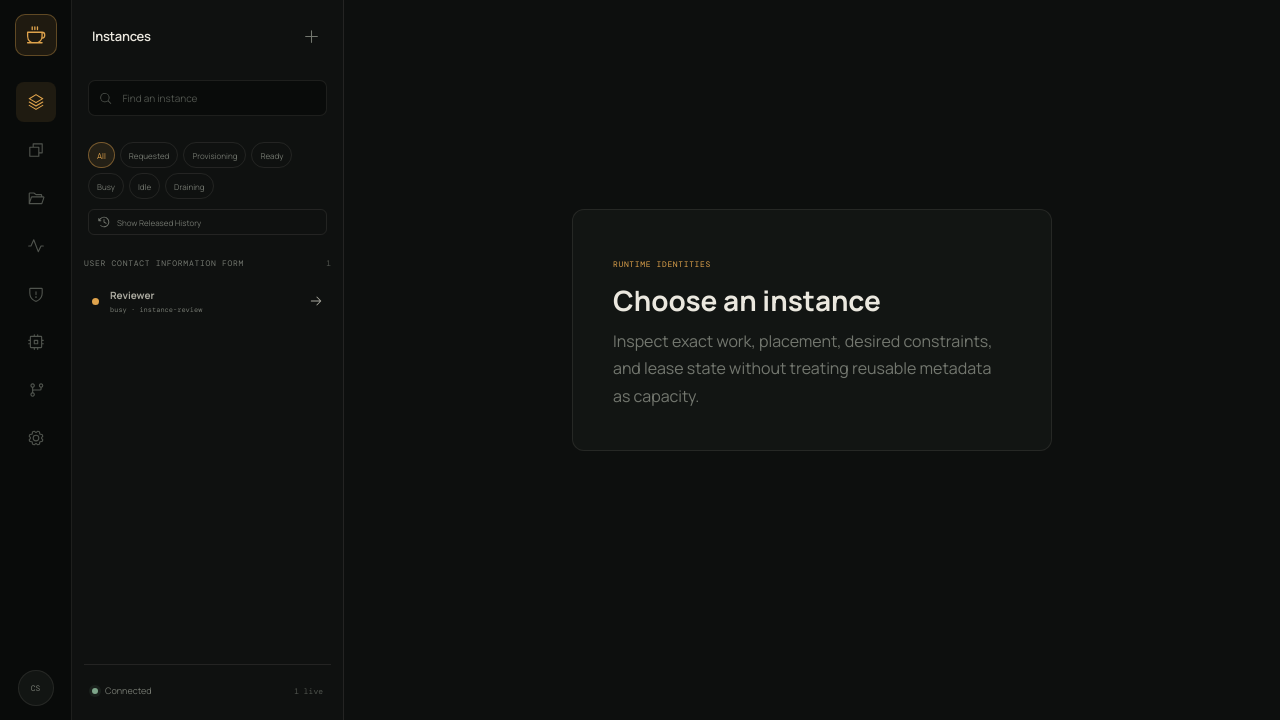
Test: version-5 instance and template operator experience › turns the missing active-thread failure into a guided prerequisite
Click the button named "Start instance".
click(311, 36)  # box [295,20,327,52]
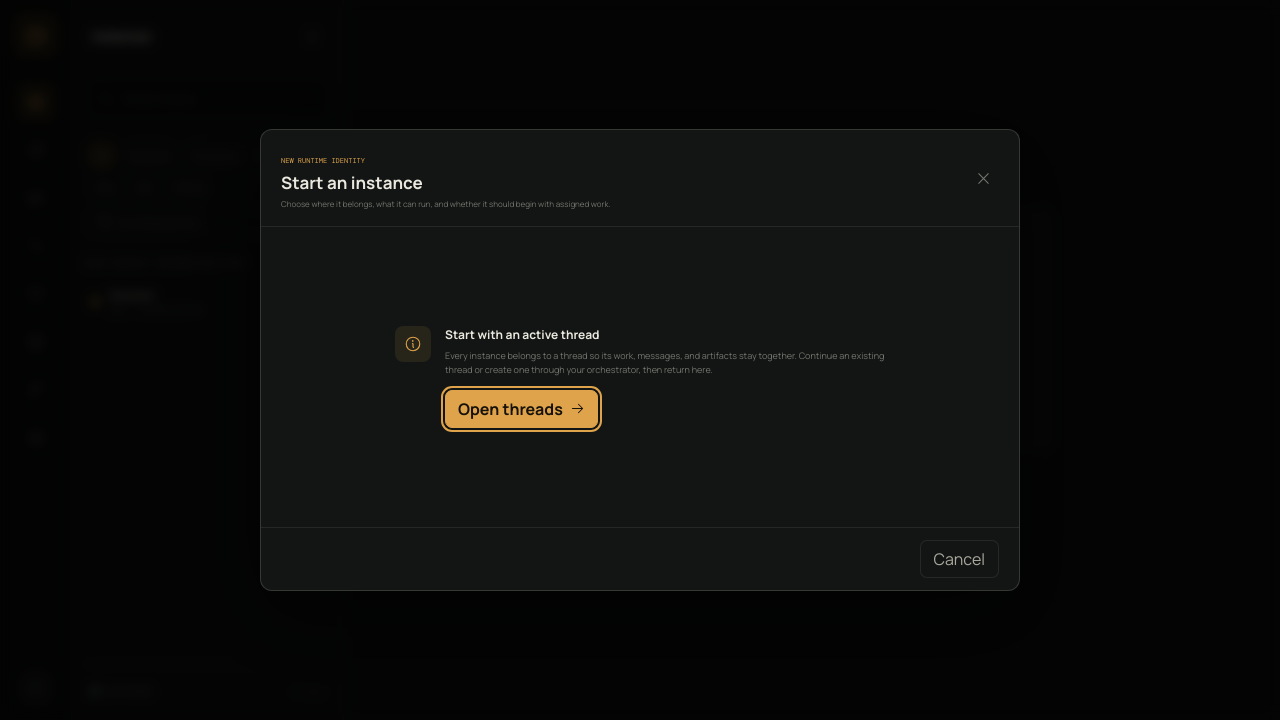
Expected: the message shows "Start with an active thread", [445,326,600,343]
Click the button "Open threads".
click(521, 409)  # box [445,390,598,428]
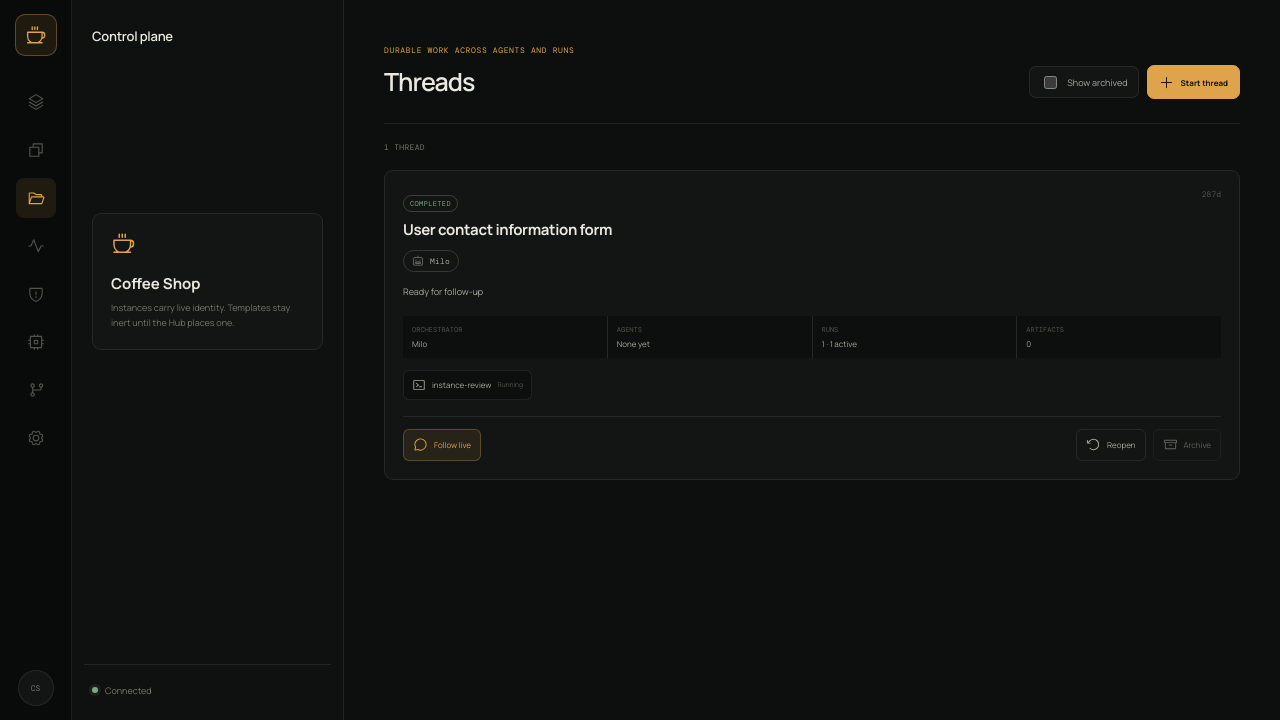
Expected: the heading "Start an instance" is gone
Expected: the heading "Threads" is shown, [384,64,474,99]
